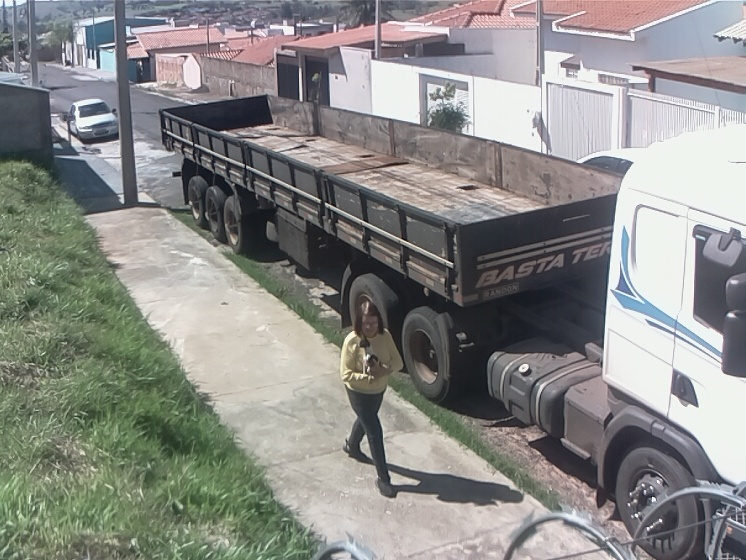person: (338, 299, 408, 501)
